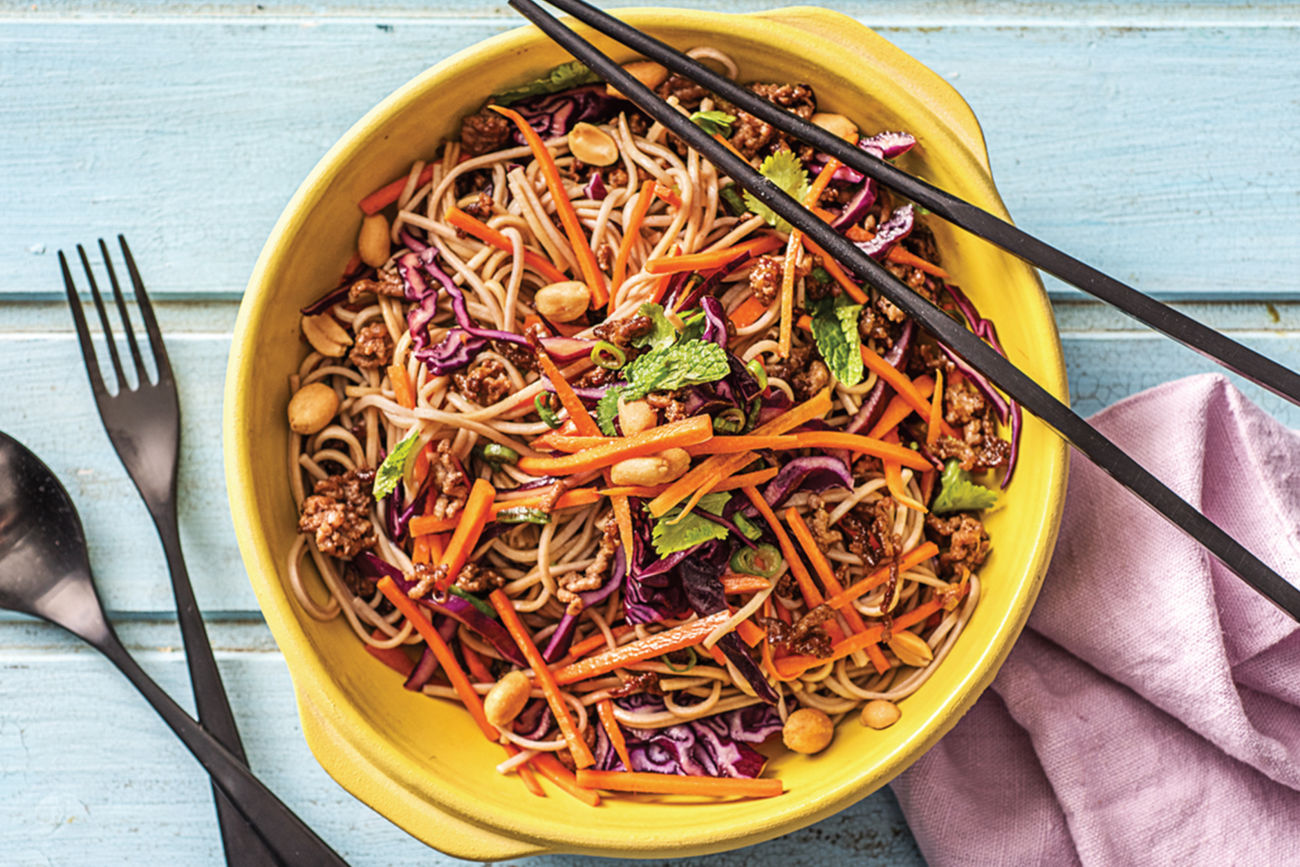Soba: (302, 59, 1032, 795)
